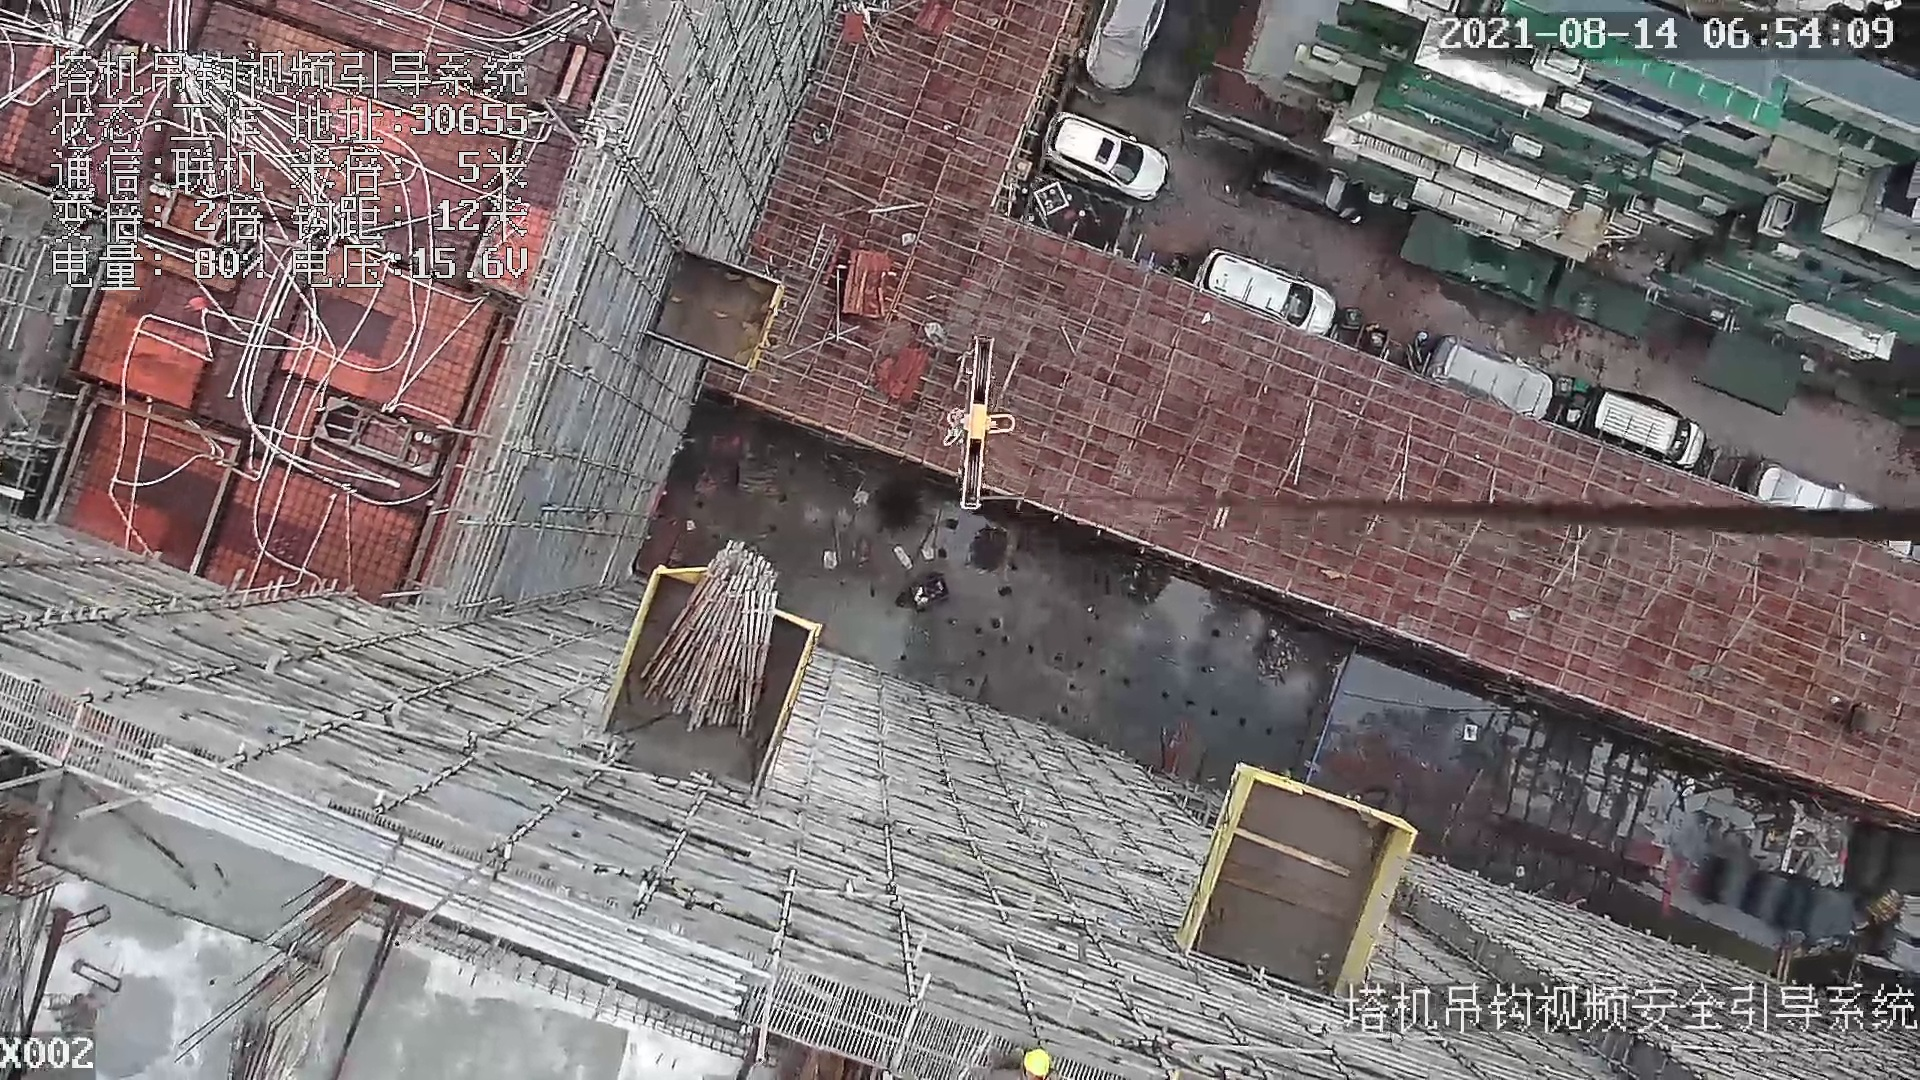helmet: (1024, 1049, 1051, 1077)
hook: (950, 330, 1017, 508)
person: (977, 1053, 1064, 1080)
rebar: (129, 745, 748, 1016)
scaffold: (639, 542, 779, 736)
